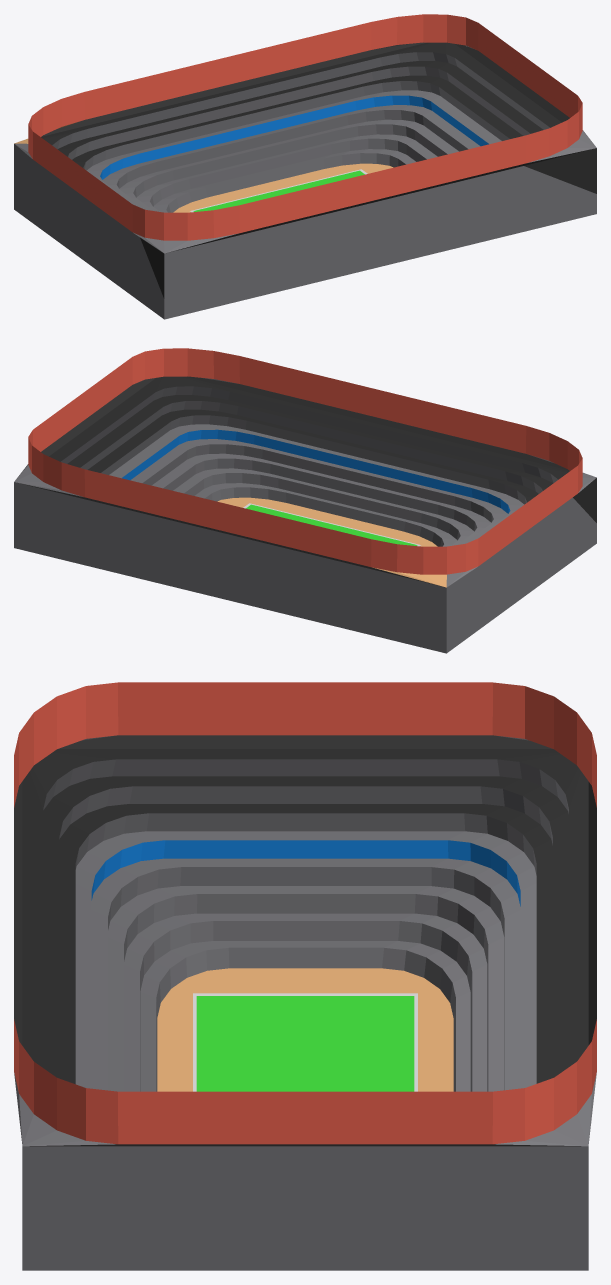
Rendered from stadium2022b.fbx.
3 renders of one model, top to bottom at view 1: azimuth 30°, elevation 25°; view 2: azimuth 150°, elevation 25°; view 3: azimuth 270°, elevation 25°, orthographic. The views are drawn at different scales.
Parts seen in each view (by area): view 1: Plane; view 2: Plane; view 3: Plane.
Boxes of the visible parts, box(x1,y1,x2,y2) form: Plane: box(14, 14, 596, 319); Plane: box(14, 348, 596, 653); Plane: box(14, 682, 596, 1270).
Size of the model in its own units: 332 by 70.14 by 200.
